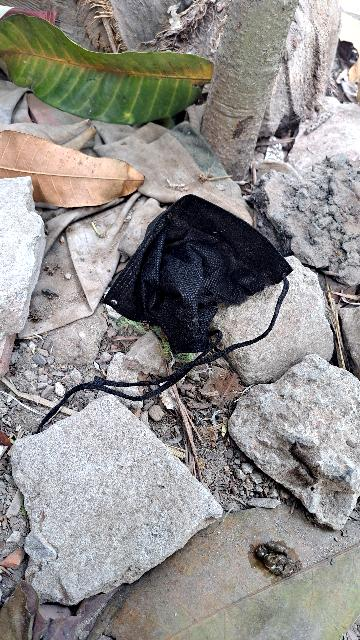mask: (84, 157, 316, 388)
